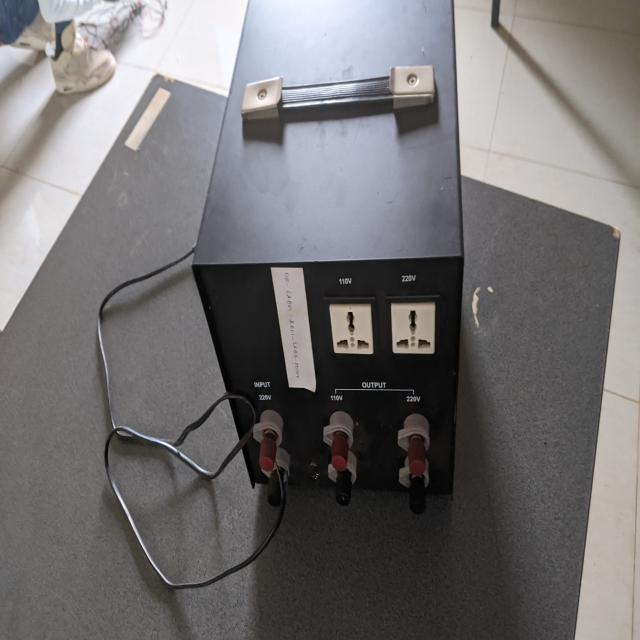AC POWER Stabilizer: (190, 3, 471, 520)
